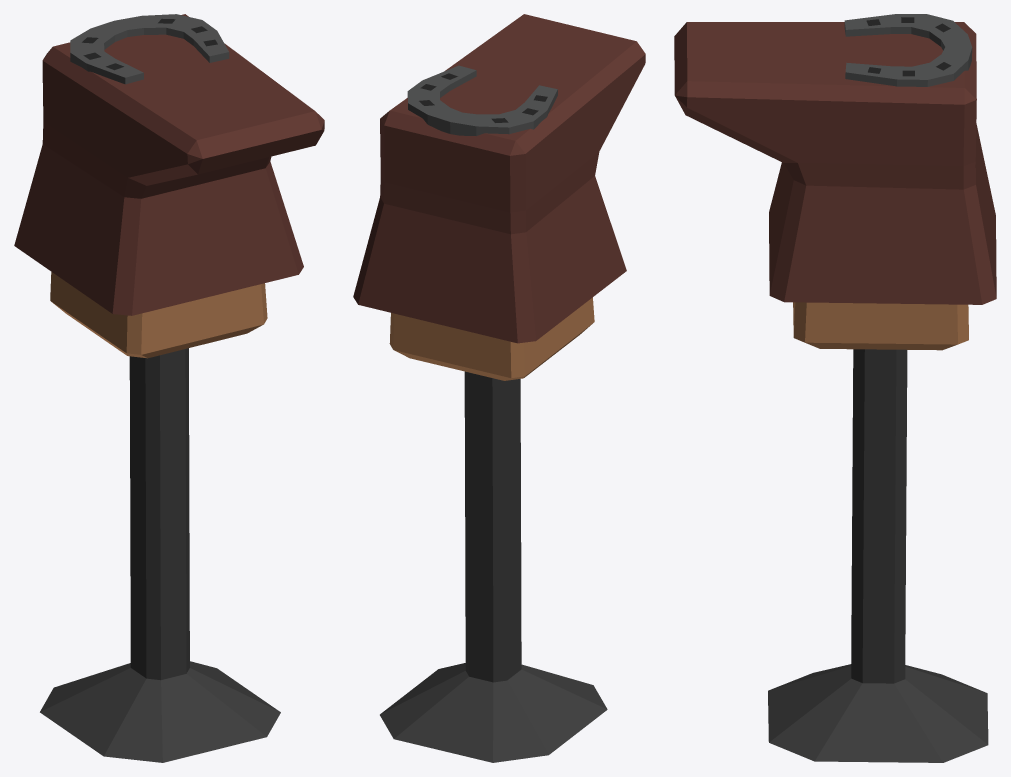
The model's file is shoe_on_woodenfoot.fbx.
The picture shows the model from 3 angles, left to right: view 1: azimuth 30°, elevation 25°; view 2: azimuth 150°, elevation 25°; view 3: azimuth 270°, elevation 25°; orthographic projection. The views are drawn at different scales.
Parts seen in each view (by area): view 1: shoe_on_woodenfoot; view 2: shoe_on_woodenfoot; view 3: shoe_on_woodenfoot.
Part boxes in pixels (left/top/right/bottom): shoe_on_woodenfoot: left=14, top=14, right=324, bottom=762; shoe_on_woodenfoot: left=353, top=14, right=645, bottom=762; shoe_on_woodenfoot: left=674, top=14, right=996, bottom=762.
Size of the model in its own units: 15.16 by 49.57 by 21.51.
